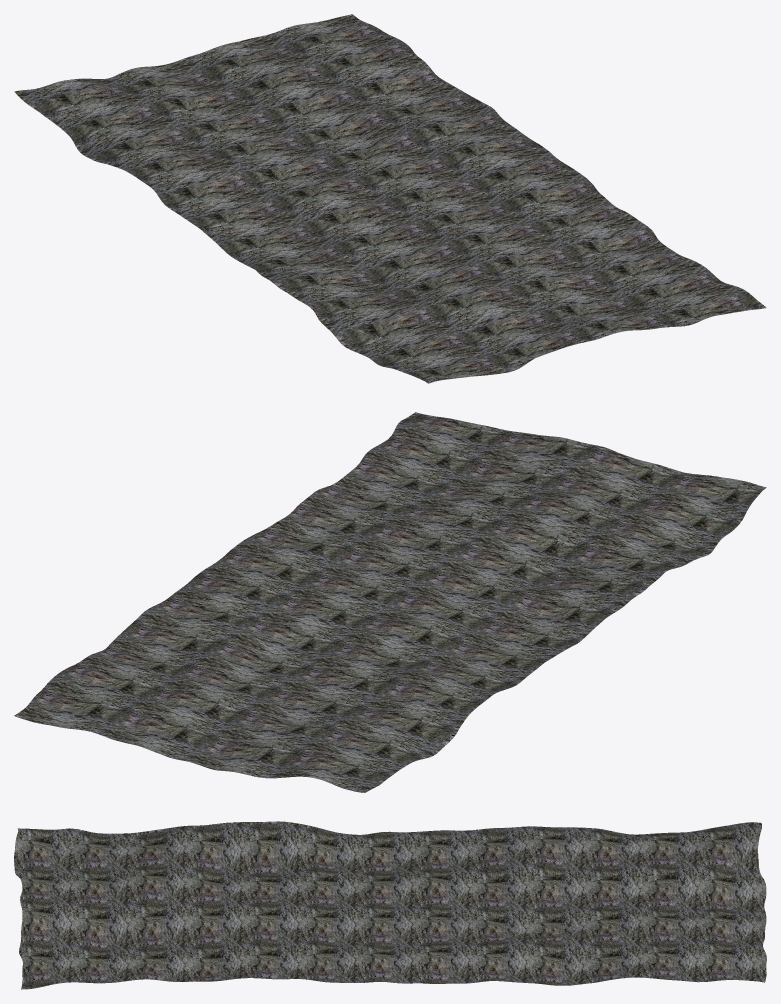
Rendered from dimian_2.FBX.
The picture shows the model from 3 angles, top to bottom: view 1: azimuth 30°, elevation 25°; view 2: azimuth 150°, elevation 25°; view 3: azimuth 270°, elevation 25°; orthographic projection. The views are drawn at different scales.
Parts seen in each view (by area): view 1: Plane001; view 2: Plane001; view 3: Plane001.
Part boxes in pixels (x1,y1,x2,y2): Plane001: [14, 14, 766, 383]; Plane001: [14, 412, 766, 792]; Plane001: [14, 821, 766, 989].
Size of the model in its own units: 10435 by 423 by 20747.
1 material, 1 textured.
